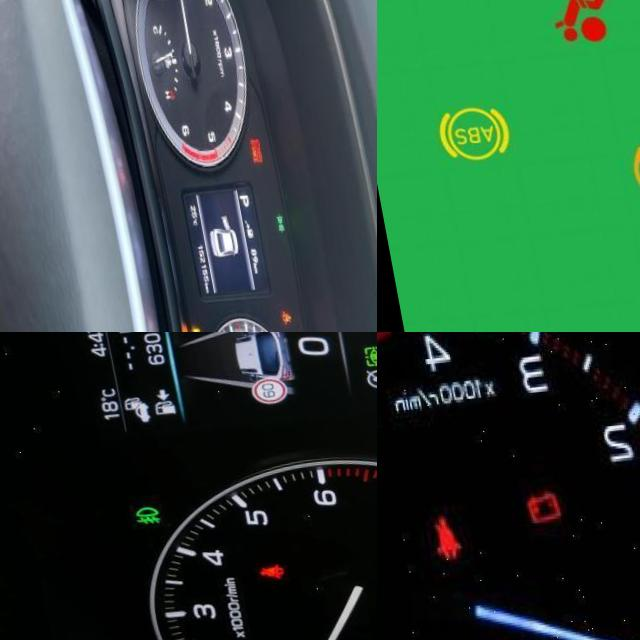Seat Belt: (264, 319, 277, 332)
